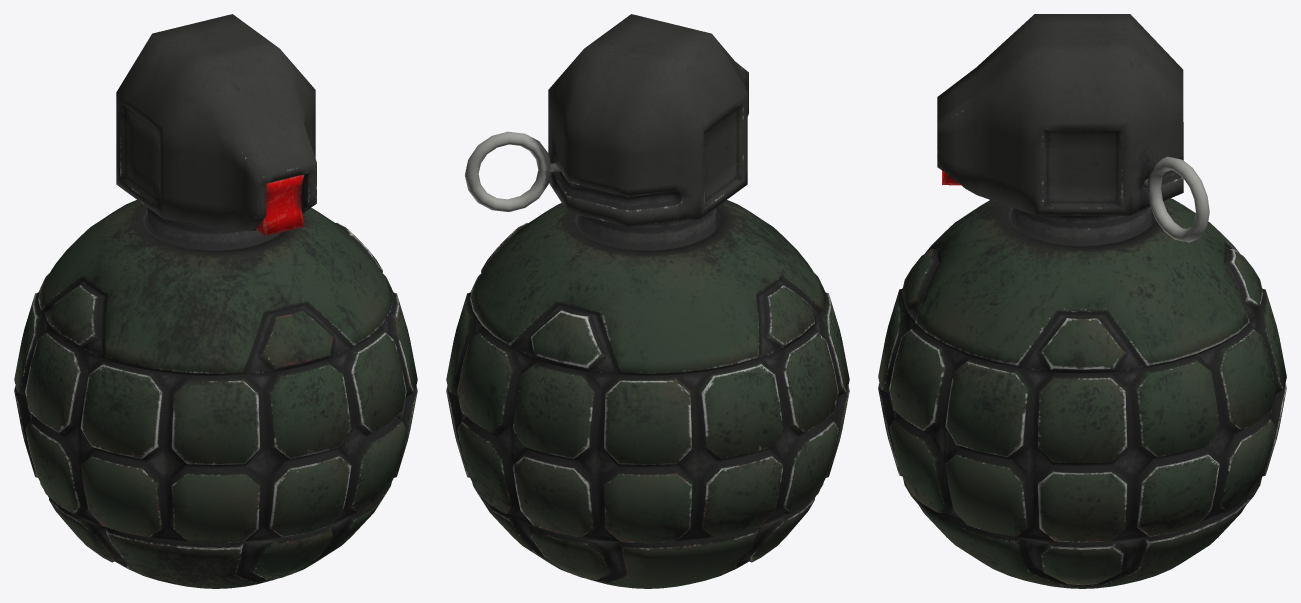
3 renders of one model, left to right at view 1: azimuth 30°, elevation 25°; view 2: azimuth 150°, elevation 25°; view 3: azimuth 270°, elevation 25°, orthographic.
Parts seen in each view (by area): view 1: grenade_Plane.006; view 2: grenade_Plane.006; view 3: grenade_Plane.006.
Part boxes in pixels (<box>): grenade_Plane.006: <box>14,14,417,588</box>; grenade_Plane.006: <box>446,14,849,588</box>; grenade_Plane.006: <box>878,14,1286,588</box>.
Bounding box in the file's own units: 198 × 285 × 198.
Materials: 1 (1 with a texture image).
